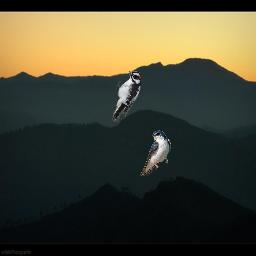Swallow: (139, 130, 171, 176)
Woodpecker: (112, 70, 141, 122)
